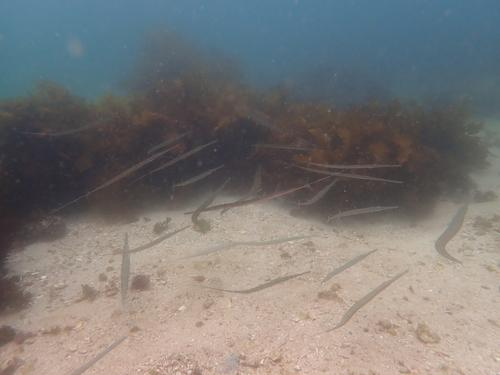Fistularia commersonii: (43, 140, 240, 228), (172, 136, 315, 222), (243, 134, 411, 197), (96, 218, 157, 304), (209, 261, 311, 291), (322, 237, 387, 282)
